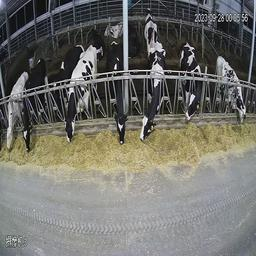cow: (64, 46, 98, 146), (140, 42, 166, 144), (106, 42, 131, 143), (23, 55, 48, 154), (214, 52, 246, 128), (177, 36, 205, 119), (5, 69, 22, 155), (49, 39, 69, 111), (143, 6, 161, 47), (89, 26, 104, 58), (105, 18, 123, 38)
